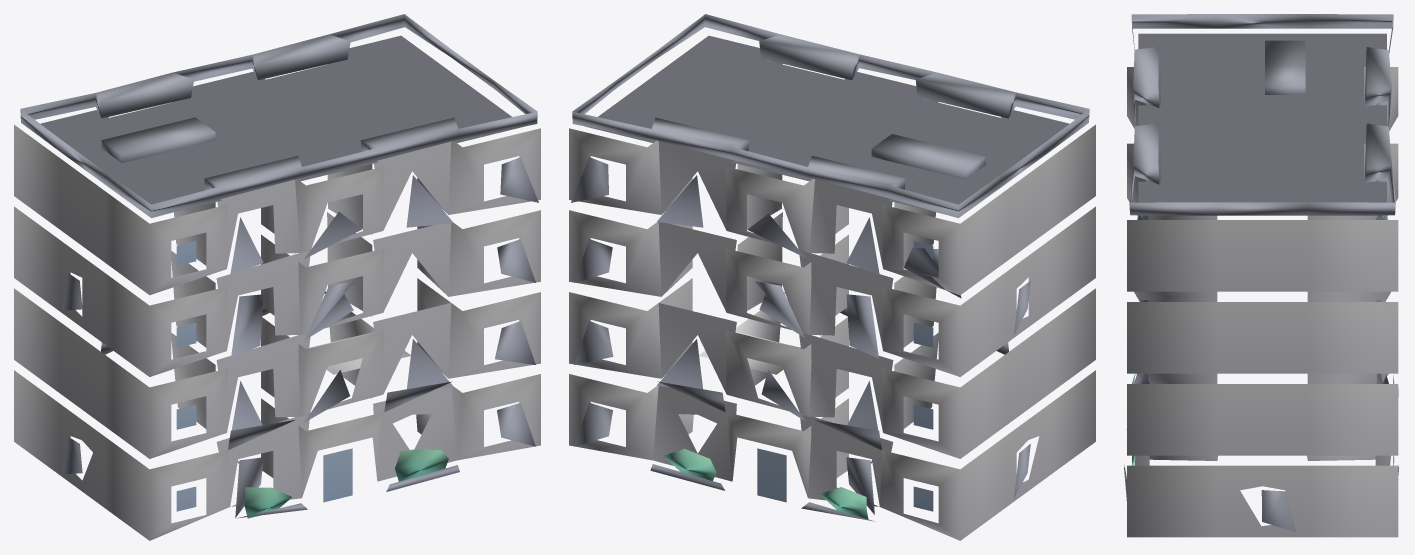
3 renders of one model, left to right at view 1: azimuth 30°, elevation 25°; view 2: azimuth 150°, elevation 25°; view 3: azimuth 270°, elevation 25°, orthographic.
Size of the model in its own units: 16.21 by 13.44 by 9.8.
